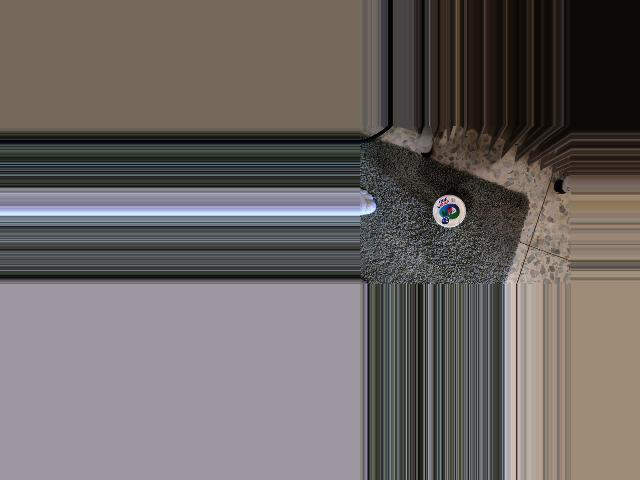cotage: (433, 194, 466, 228)
